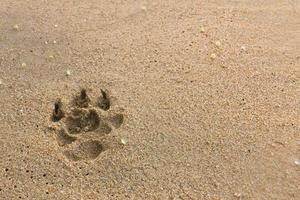chien: (49, 89, 126, 165)
